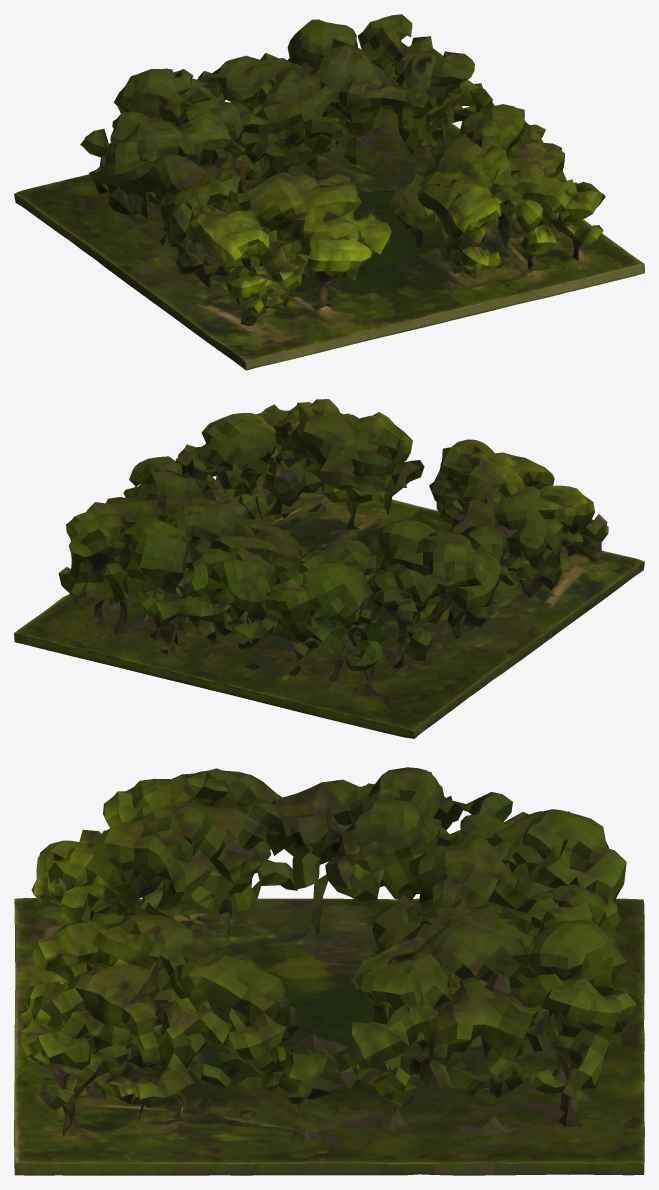
The model's file is Meshy_AI_the_ground_and_floor__0221052258_texture.glb.
The picture shows the model from 3 angles, top to bottom: view 1: azimuth 30°, elevation 25°; view 2: azimuth 150°, elevation 25°; view 3: azimuth 270°, elevation 25°; orthographic projection. The views are drawn at different scales.
Parts seen in each view (by area): view 1: output; view 2: output; view 3: output.
Boxes of the visible parts, x1,y1,x2,y2 form: output: (14, 14, 644, 370); output: (14, 399, 644, 738); output: (14, 767, 644, 1175).
Size of the model in its own units: 1.99 by 0.6121 by 2.
Materials: 1 (1 with a texture image).
